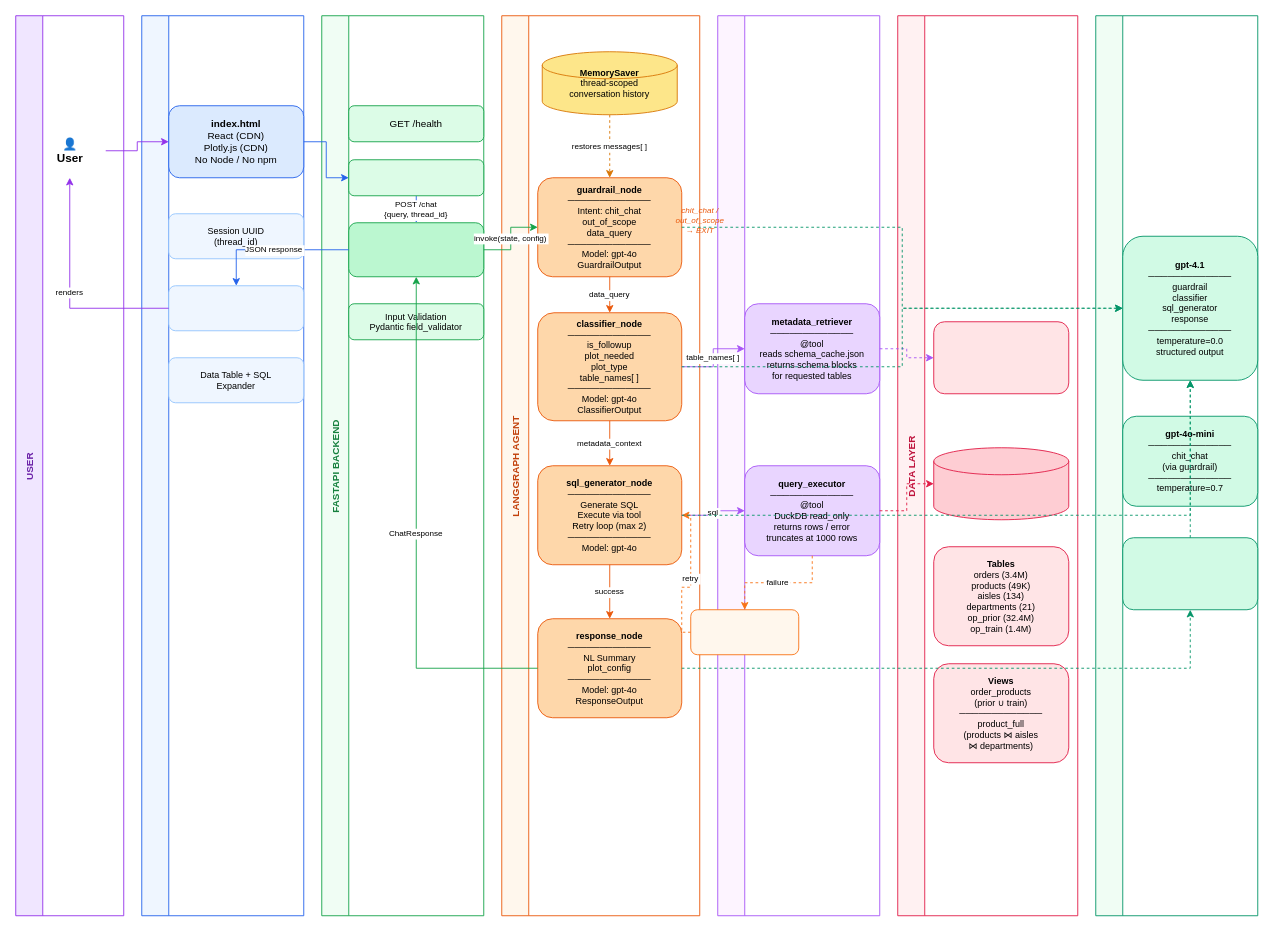
Image size: 1274x932. Some labels were removed from this diagram. The shapes that lost their labels are listed below. From the top down, each one's box as (x1, y1, x2, y2) in pixels, then its label:
(348, 159, 484, 196): GET / Serves index.html
(348, 222, 484, 277): POST /chat {query, thread_id} → ChatResponse
(168, 285, 304, 331): Chart Renderer bar / line / pie / scatter
(933, 321, 1069, 394): schema_cache.json LLM-generated table + column descriptions
(141, 15, 304, 916): FRONTEND
(717, 15, 880, 916): TOOLS
(933, 447, 1069, 520): DuckDB instacart.db ───────────── 33.8M rows in-process columnar engine
(1095, 15, 1258, 916): LLM (OpenAI)
(1122, 537, 1258, 610): LangSmith Observability Node traces Token usage
(690, 609, 799, 655): Retry Loop error → LLM max 2 attempts
